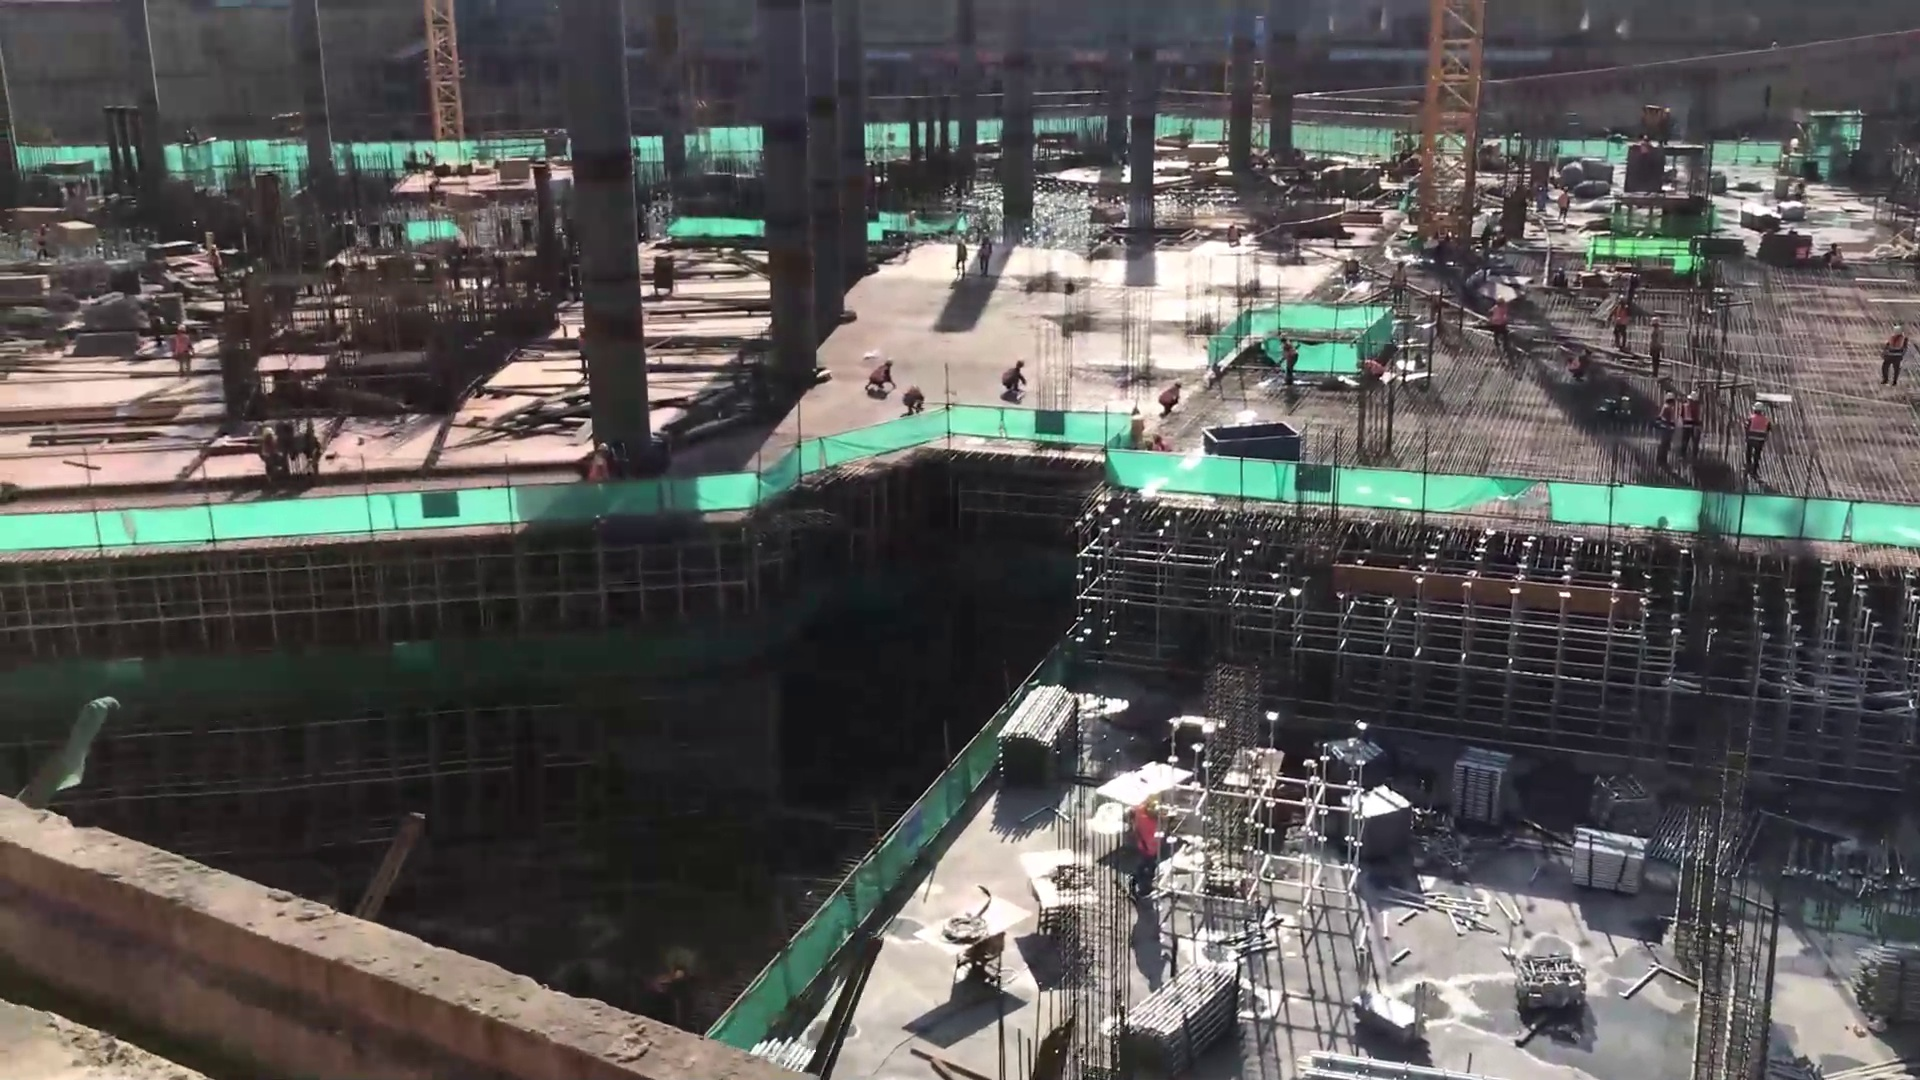helmet: (1140, 790, 1166, 821), (1746, 397, 1768, 415), (594, 438, 611, 456), (1889, 321, 1905, 339), (1684, 389, 1702, 406), (1664, 387, 1678, 404), (1493, 291, 1507, 306), (175, 319, 188, 333), (1649, 314, 1662, 329), (1615, 291, 1630, 305)
person: (1123, 790, 1171, 908), (1734, 392, 1779, 481), (1650, 381, 1688, 478), (1676, 386, 1715, 467), (1876, 319, 1913, 392), (1638, 314, 1669, 380), (169, 319, 198, 384), (580, 437, 617, 487), (1486, 291, 1514, 357), (1607, 288, 1634, 353), (1152, 374, 1188, 419), (1274, 329, 1302, 385), (862, 351, 898, 394), (998, 354, 1030, 401), (975, 226, 997, 283), (895, 383, 930, 418), (1353, 355, 1387, 389), (951, 233, 970, 284)
vest: (1132, 812, 1160, 856), (583, 456, 615, 487), (1680, 403, 1705, 441), (1746, 415, 1770, 454), (1654, 402, 1679, 438), (1883, 337, 1907, 366), (172, 330, 193, 359), (1364, 356, 1386, 381), (1489, 305, 1510, 329), (1611, 303, 1629, 329)
